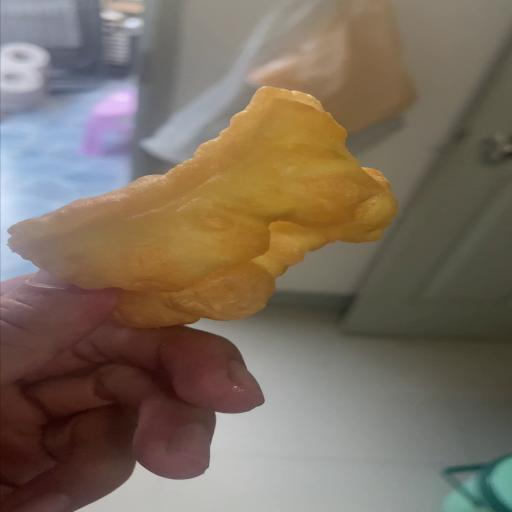street_golden_good: (6, 87, 395, 326)
